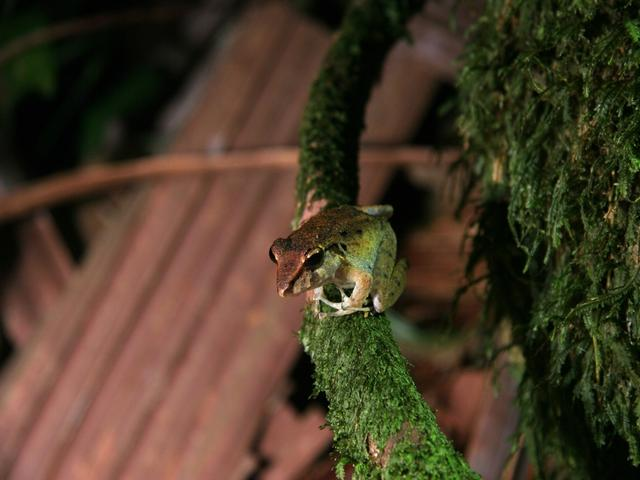frog: (246, 172, 443, 337)
